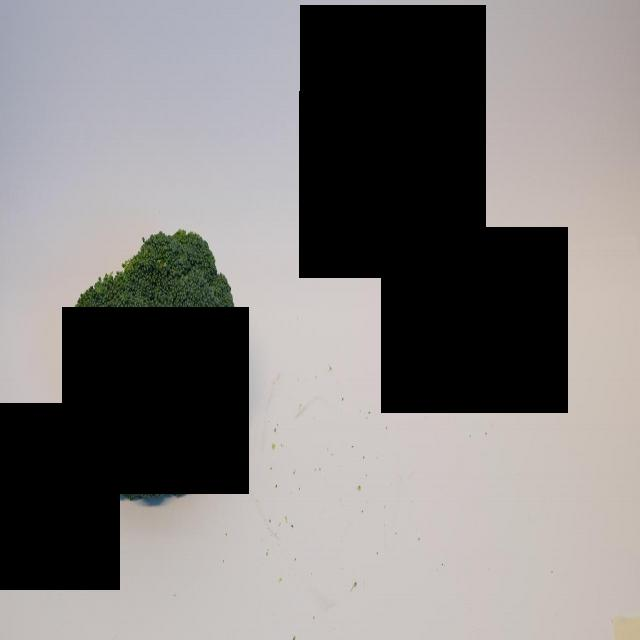broccoli: (68, 222, 254, 514)
